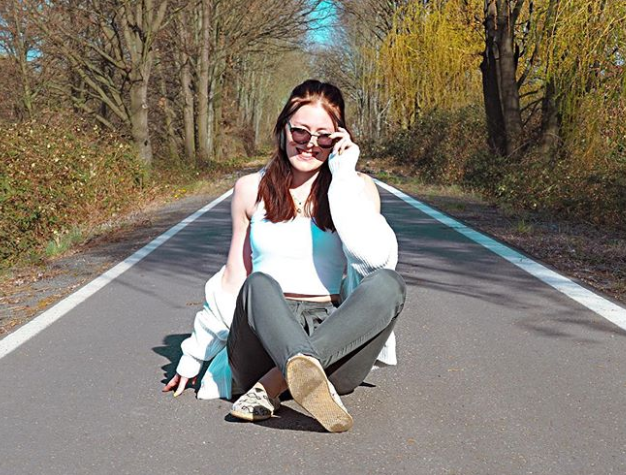no_mask: (286, 142, 328, 170)
